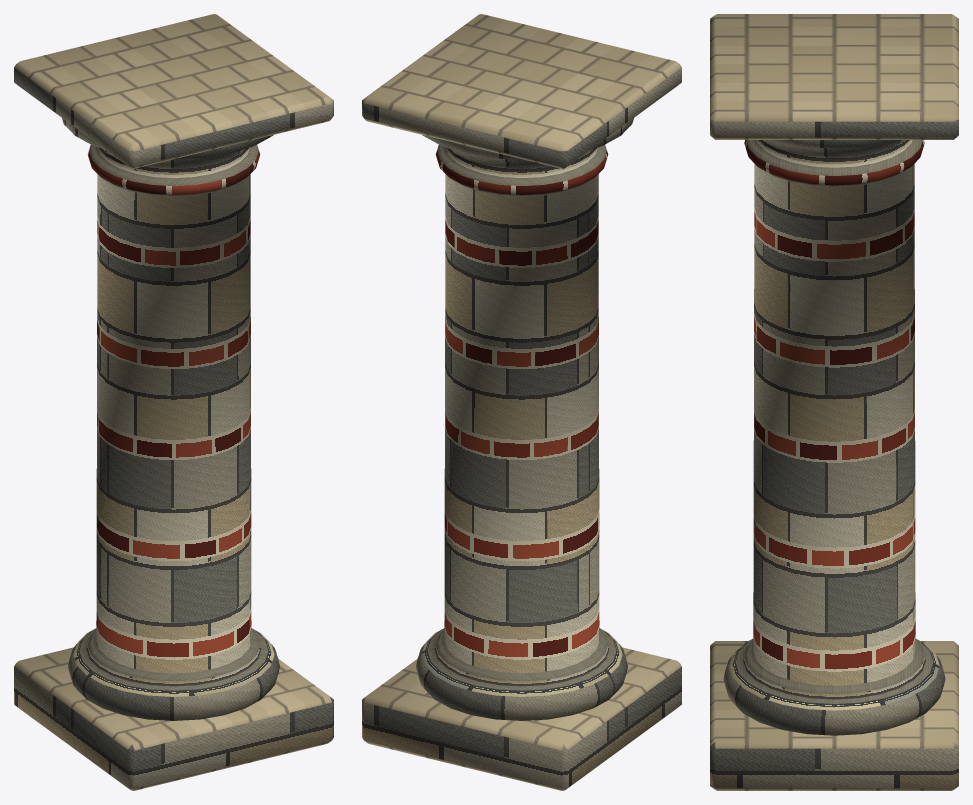
The model's file is byzantine stone pillar nice.glb.
The picture shows the model from 3 angles, left to right: view 1: azimuth 30°, elevation 25°; view 2: azimuth 150°, elevation 25°; view 3: azimuth 270°, elevation 25°; orthographic projection. The views are drawn at different scales.
Visible parts, largest first — view 1: ByzSwap_nice_pillar_column; view 2: ByzSwap_nice_pillar_column; view 3: ByzSwap_nice_pillar_column.
Part boxes in pixels (left/top/right/bottom): ByzSwap_nice_pillar_column: left=14, top=14, right=333, bottom=790; ByzSwap_nice_pillar_column: left=362, top=14, right=681, bottom=790; ByzSwap_nice_pillar_column: left=710, top=14, right=958, bottom=790.
Size of the model in its own units: 0.9144 by 2.74 by 0.9144.
4 materials, 4 textured.
